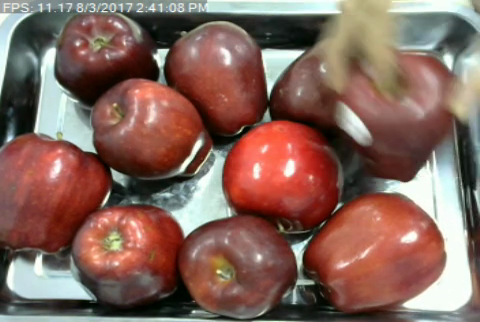Apple: (300, 188, 449, 317), (219, 118, 346, 236), (0, 128, 113, 256), (87, 74, 215, 181), (175, 211, 299, 321), (162, 17, 272, 140), (70, 202, 188, 310), (52, 6, 158, 111)
